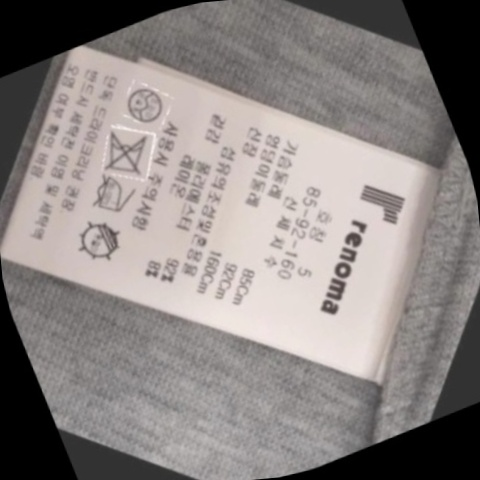DN_wash: (90, 116, 168, 188)
dry_clean_petrol_only: (115, 72, 177, 134)
iron_low: (78, 164, 147, 229)
line_dry_in_shade: (66, 206, 140, 275)
